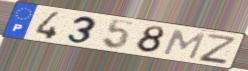3: (65, 15, 101, 45)
4: (33, 10, 62, 41)
5: (102, 19, 136, 51)
8: (133, 25, 165, 54)
M: (160, 29, 208, 61)
Z: (197, 32, 237, 64)
